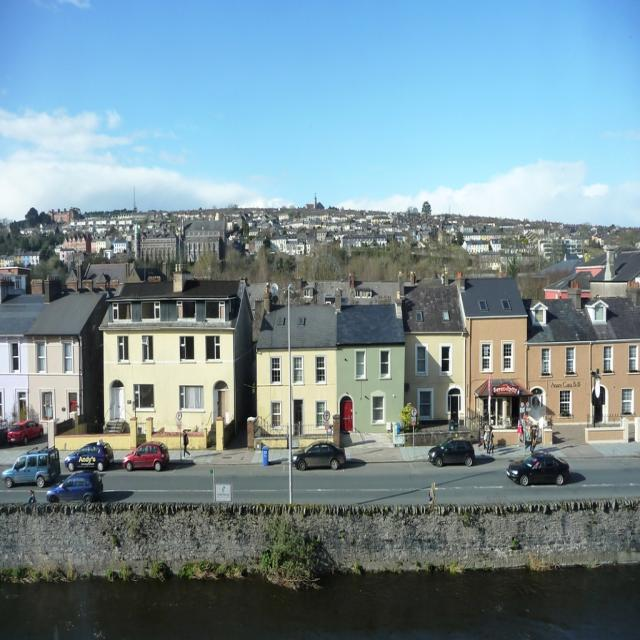car: (0, 446, 59, 488), (506, 448, 568, 484), (290, 437, 344, 470), (47, 465, 102, 497), (427, 436, 474, 468), (121, 440, 170, 470), (62, 440, 114, 468), (2, 415, 43, 441)
